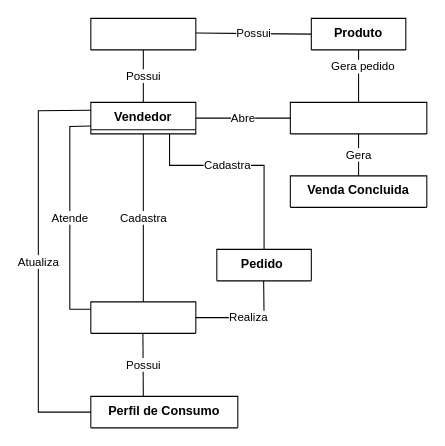
The diagram is 445 pixels wide and 446 high, and some of its shapes have lost their labels. The shapes that lost their labels are listed below. From the top down, each one's box as (x1, y1, x2, y2) in pixels, then its label:
(90, 17, 196, 50): Livraria
(289, 101, 427, 134): Venda Potencial
(90, 301, 196, 333): Cliente
